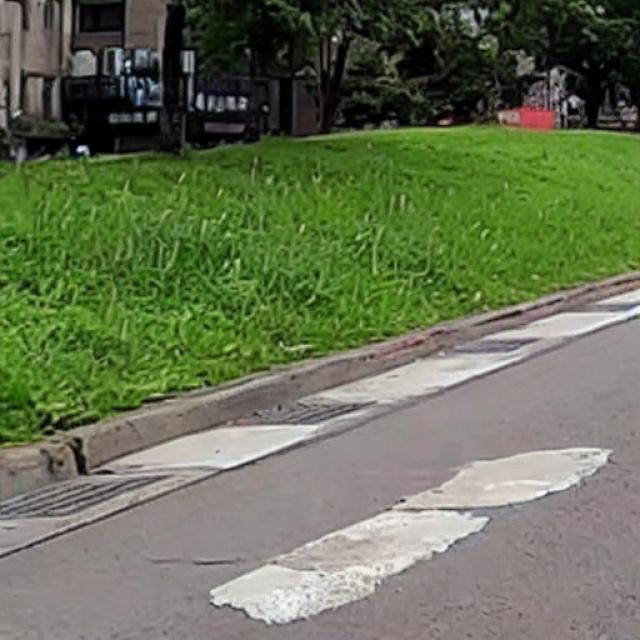puddle: (211, 447, 613, 620)
